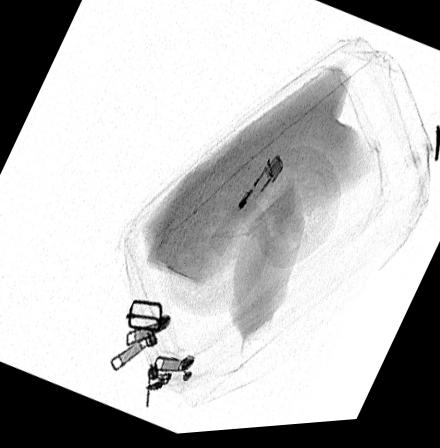Lighter: (205, 158, 284, 261)
